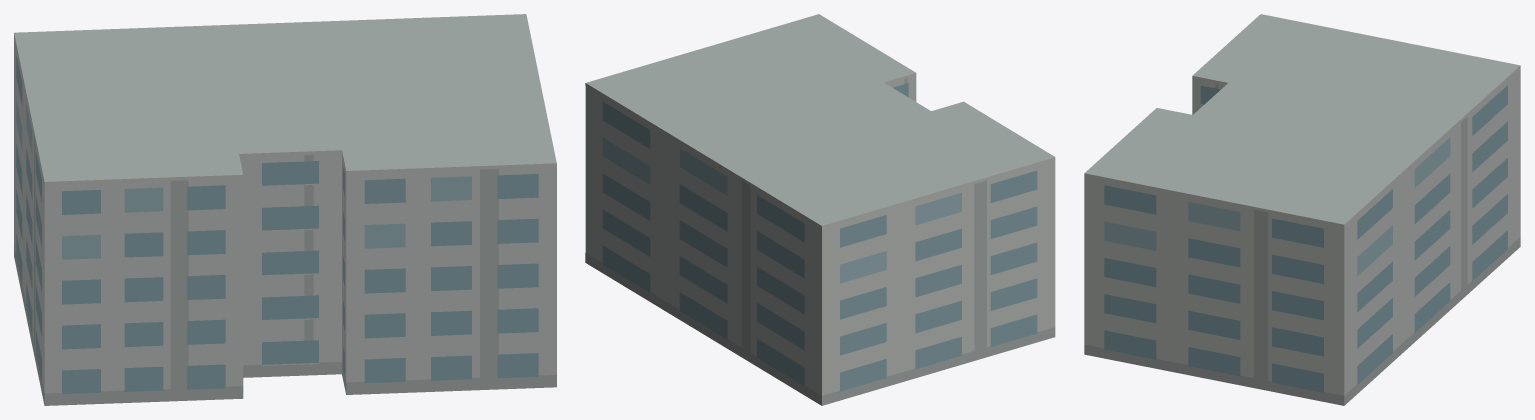
Rendered from residential-fea81012-ee23-4810-8e41-d0dd35e58467.glb.
The picture shows the model from 3 angles, left to right: view 1: azimuth 30°, elevation 25°; view 2: azimuth 150°, elevation 25°; view 3: azimuth 270°, elevation 25°; orthographic projection. The views are drawn at different scales.
Visible parts, largest first — view 1: residential-fea81012-ee23-4810-8e41-d0dd35e58467.tmp; view 2: residential-fea81012-ee23-4810-8e41-d0dd35e58467.tmp; view 3: residential-fea81012-ee23-4810-8e41-d0dd35e58467.tmp.
Boxes of the visible parts, box(x1,y1,x2,y2) form: residential-fea81012-ee23-4810-8e41-d0dd35e58467.tmp: box(14, 14, 556, 405); residential-fea81012-ee23-4810-8e41-d0dd35e58467.tmp: box(585, 14, 1055, 405); residential-fea81012-ee23-4810-8e41-d0dd35e58467.tmp: box(1084, 14, 1520, 405).
Bounding box in the file's own units: 38.01 × 15.25 × 33.27.
